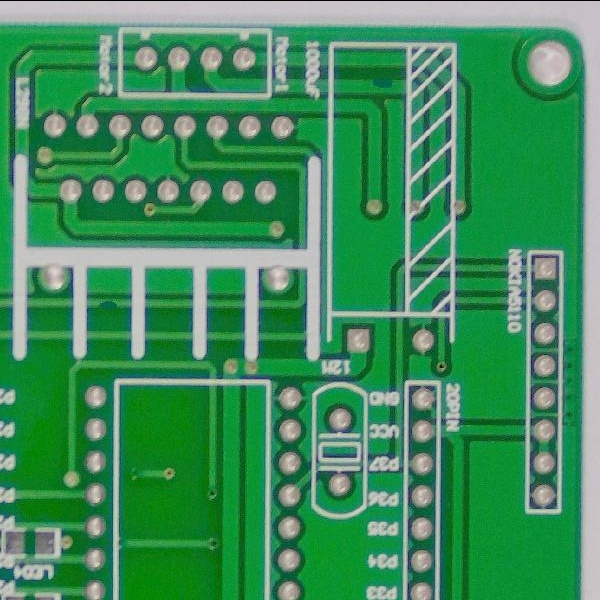mouse_bite: (368, 71, 398, 96), (95, 291, 121, 315)
